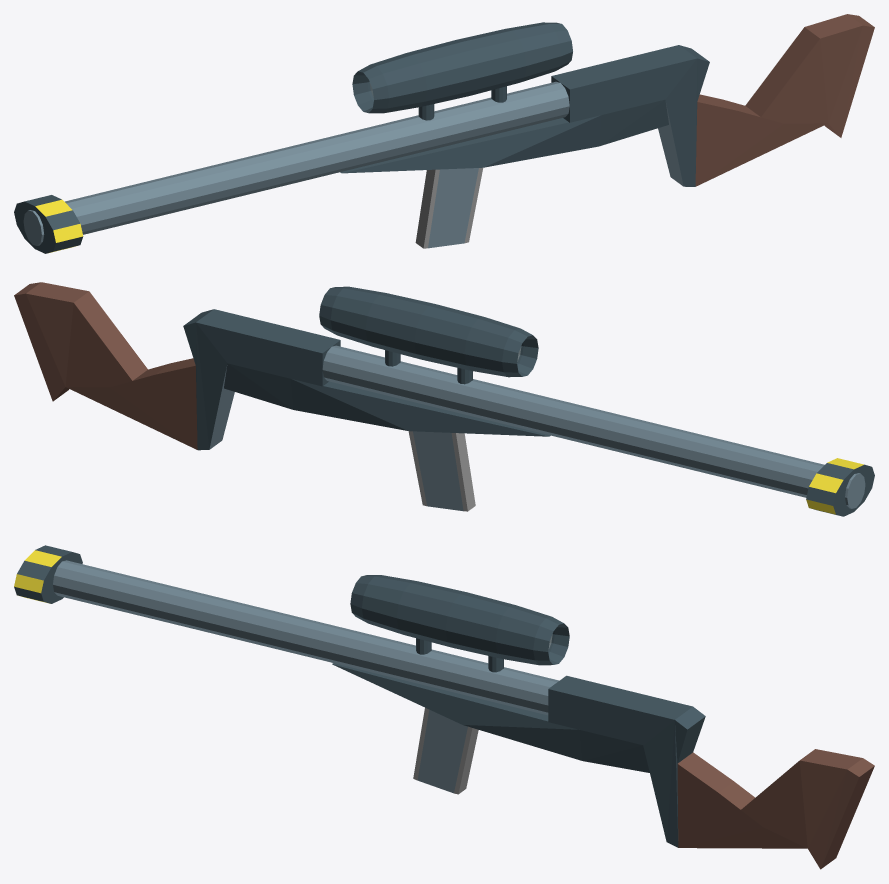
Rendered from Rifle.obj.
3 views of the same model, one above another, from view 1: azimuth 30°, elevation 25°; view 2: azimuth 150°, elevation 25°; view 3: azimuth 330°, elevation 25° (orthographic).
Parts seen in each view (by area): view 1: group28542028, group1751968375, group1286261176, group2053845300, group834846544, group826053089, group1777805579, group67601880; view 2: group28542028, group1751968375, group1286261176, group2053845300, group834846544, group826053089, group1777805579, group67601880; view 3: group28542028, group1751968375, group1286261176, group2053845300, group834846544, group826053089, group1777805579, group1478953549.
Boxes of the visible parts, x1=… form: group28542028: x1=647, y1=14, x2=874, y2=186; group1751968375: x1=23, y1=81, x2=569, y2=245; group1286261176: x1=352, y1=22, x2=572, y2=113; group2053845300: x1=340, y1=99, x2=668, y2=173; group834846544: x1=551, y1=53, x2=665, y2=122; group826053089: x1=428, y1=168, x2=478, y2=248; group1777805579: x1=14, y1=195, x2=83, y2=253; group67601880: x1=415, y1=169, x2=439, y2=248; group28542028: x1=14, y1=282, x2=245, y2=450; group1751968375: x1=322, y1=345, x2=865, y2=508; group1286261176: x1=319, y1=286, x2=538, y2=377; group2053845300: x1=224, y1=363, x2=550, y2=436; group834846544: x1=227, y1=317, x2=340, y2=386; group826053089: x1=413, y1=431, x2=463, y2=511; group1777805579: x1=806, y1=458, x2=874, y2=516; group67601880: x1=451, y1=433, x2=475, y2=511; group28542028: x1=643, y1=699, x2=874, y2=869; group1751968375: x1=53, y1=560, x2=558, y2=715; group1286261176: x1=350, y1=575, x2=569, y2=665; group2053845300: x1=332, y1=663, x2=649, y2=772; group834846544: x1=548, y1=675, x2=660, y2=744; group826053089: x1=417, y1=709, x2=467, y2=793; group1777805579: x1=14, y1=545, x2=82, y2=603; group1478953549: x1=454, y1=726, x2=478, y2=794.
Bounding box in the file's own units: 1.84 × 0.4163 × 0.16.
